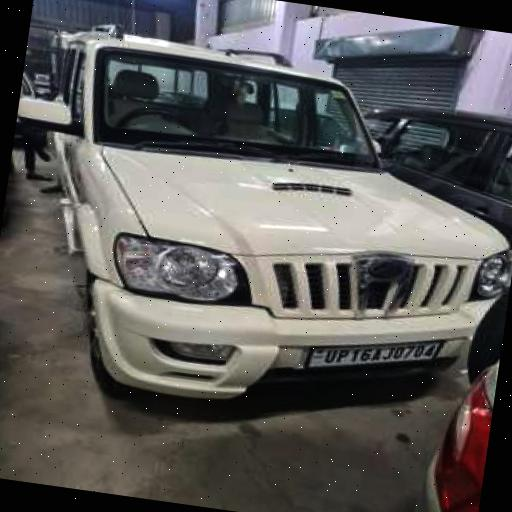license_plate`: (307, 322, 438, 382)
